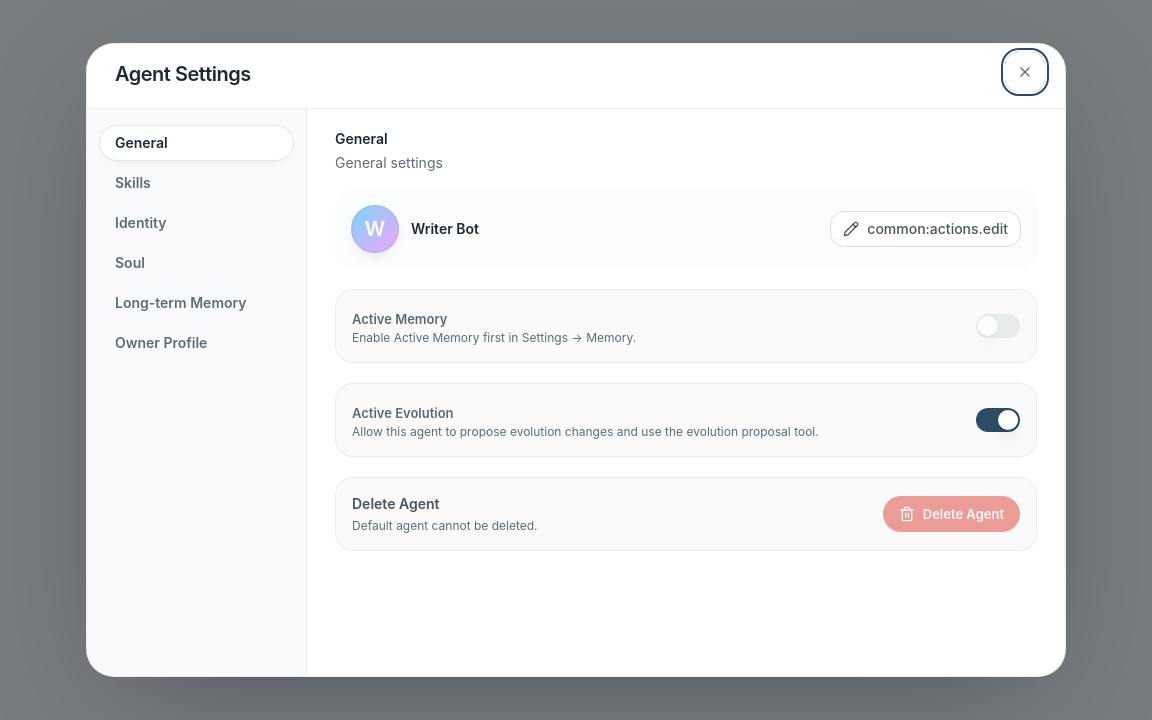
Test case: AgentSettingsDialog shell › shows a skill summary and links to the installed skills page
The image size is (1152, 720).
Step 1. Click the tab "Skills" → point(196, 183), box [99, 165, 294, 201]
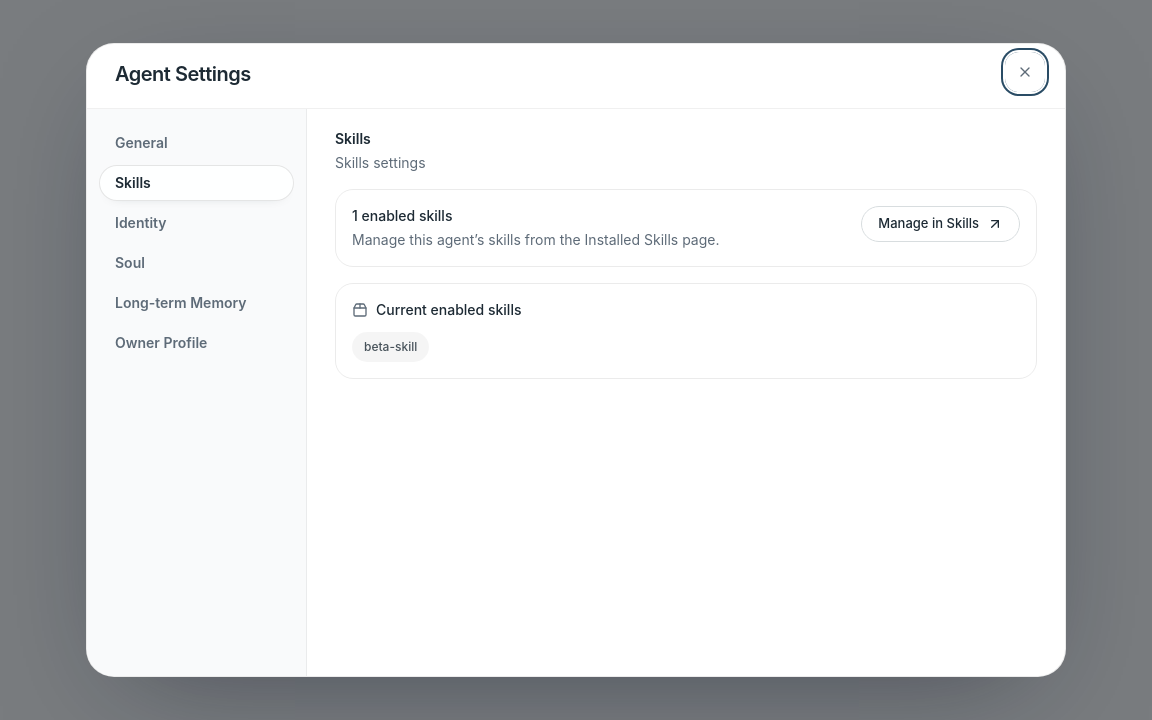
Now the text "1 enabled skills" is shown, box [352, 207, 452, 224]
Now the text "beta-skill" is shown, box [352, 332, 429, 362]
